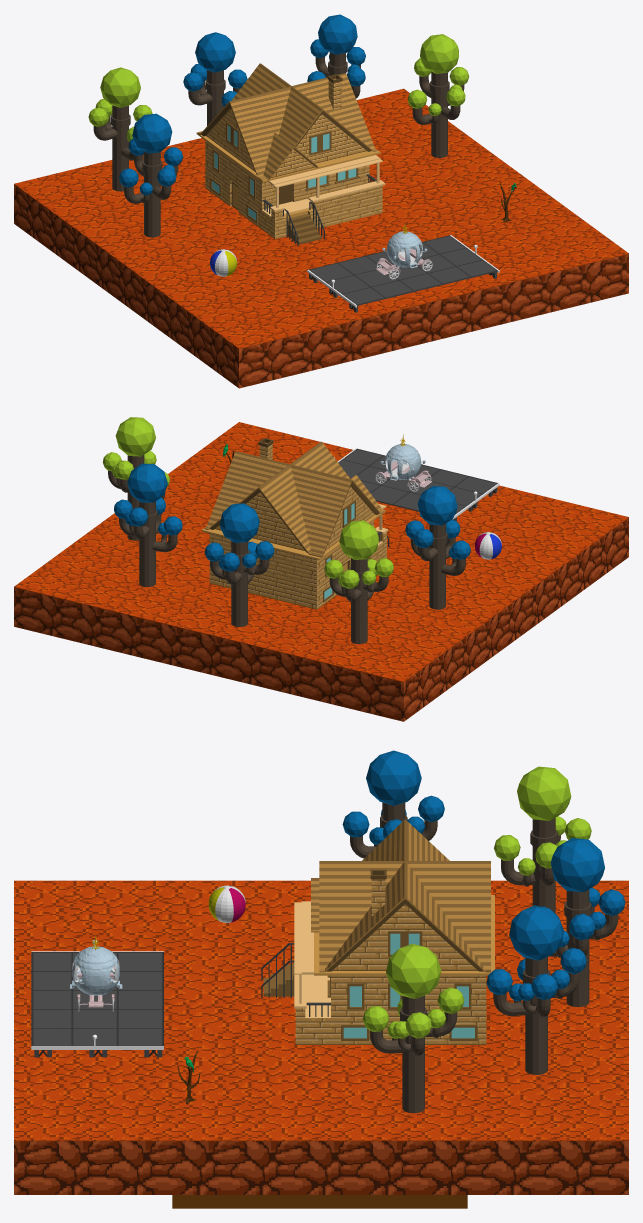
The picture shows the model from 3 angles, top to bottom: view 1: azimuth 30°, elevation 25°; view 2: azimuth 150°, elevation 25°; view 3: azimuth 270°, elevation 25°; orthographic projection. The views are drawn at different scales.
Visible parts, largest first — view 1: Cube.001, Cube.508, VEHICLES_FANTASY_CARRIAGE, OBJRANDOM_BEACHBALL; view 2: Cube.001, Cube.508, VEHICLES_FANTASY_CARRIAGE, OBJRANDOM_BEACHBALL; view 3: Cube.001, Cube.508, UNDERGROUND_ART_PIECE_VAN_GOGH, VEHICLES_FANTASY_CARRIAGE, OBJRANDOM_BEACHBALL.
Part boxes in pixels (x1,y1,x2,y2): Cube.001: (14, 14, 628, 388); Cube.508: (196, 63, 385, 245); VEHICLES_FANTASY_CARRIAGE: (376, 222, 432, 279); OBJRANDOM_BEACHBALL: (210, 249, 237, 276); Cube.001: (14, 417, 628, 721); Cube.508: (201, 438, 389, 609); VEHICLES_FANTASY_CARRIAGE: (375, 434, 431, 491); OBJRANDOM_BEACHBALL: (474, 532, 501, 559); Cube.001: (14, 750, 628, 1194); Cube.508: (261, 820, 494, 1044); UNDERGROUND_ART_PIECE_VAN_GOGH: (172, 1195, 467, 1208); VEHICLES_FANTASY_CARRIAGE: (70, 935, 122, 1011); OBJRANDOM_BEACHBALL: (208, 885, 245, 922).
Size of the model in its own units: 4000 by 1789 by 4000.
Materials: 33 (6 with a texture image).
